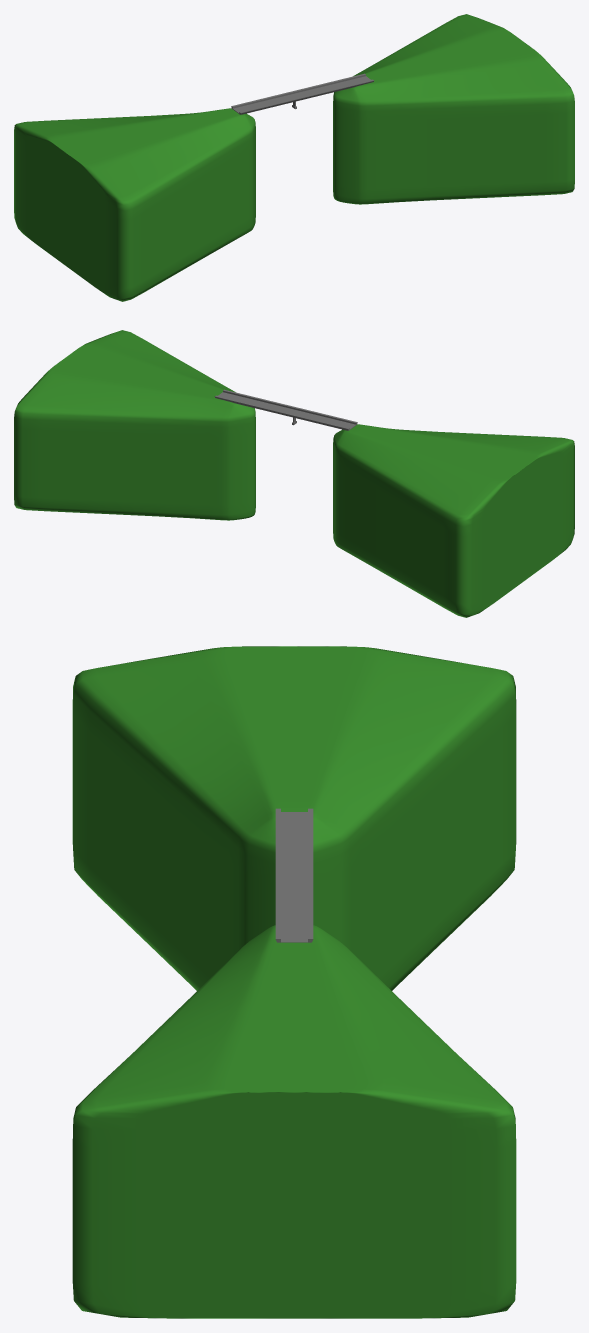
File: bridge.glb
The picture shows the model from 3 angles, top to bottom: view 1: azimuth 30°, elevation 25°; view 2: azimuth 150°, elevation 25°; view 3: azimuth 270°, elevation 25°; orthographic projection. The views are drawn at different scales.
Parts seen in each view (by area): view 1: Cube.005, Cube.004; view 2: Cube.005, Cube.004; view 3: Cube.005, Cube.004.
Part boxes in pixels (x1,y1,x2,y2): Cube.005: (14,14,574,301); Cube.004: (231,73,374,114); Cube.005: (14,330,574,617); Cube.004: (214,389,357,430); Cube.005: (72,646,516,1318); Cube.004: (275,808,313,942).
Bounding box in the file's own units: 478 × 115 × 201.
